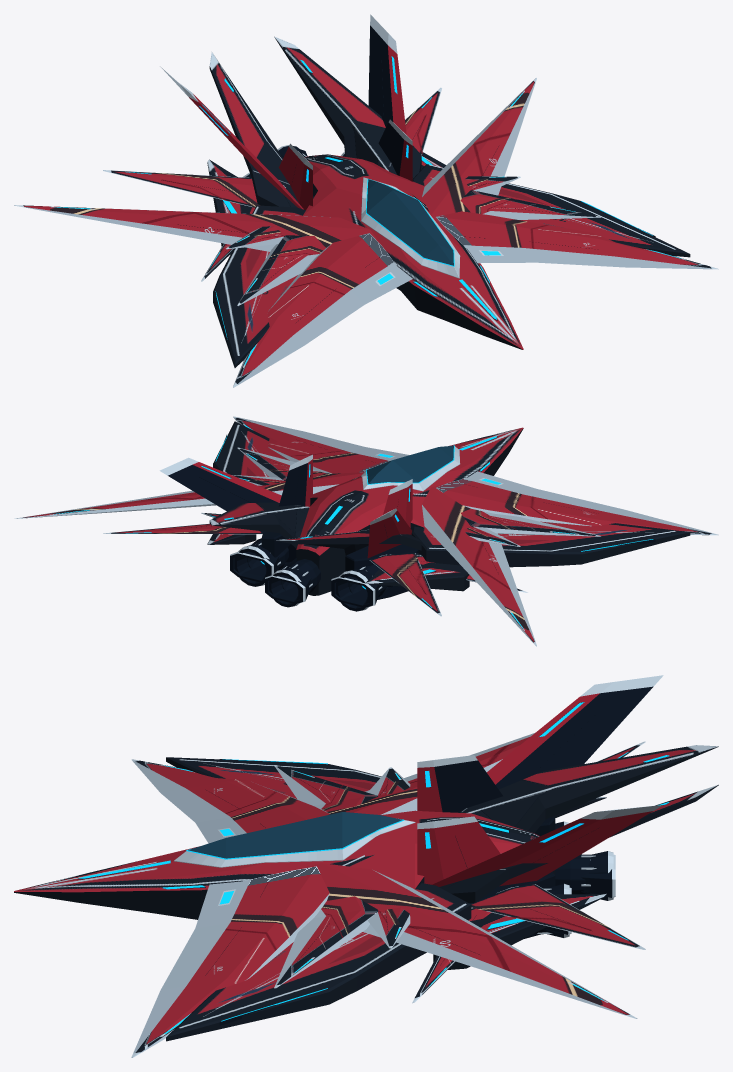
Rendered from R18_LIBRARY_CRIMSON.glb.
3 renders of one model, top to bottom at view 1: azimuth 30°, elevation 25°; view 2: azimuth 150°, elevation 25°; view 3: azimuth 270°, elevation 25°, orthographic. The views are drawn at different scales.
Parts seen in each view (by area): view 1: A01_Central_Faceted_Monocoque, W02A_Full_Wing_L, W02A_Full_Wing_R, W03_Full_Wing_L, W03_Full_Wing_R, B01_MainWing_L, C02_Swept_Dorsal_Keel_R, B01_MainWing_R, C02_Swept_Dorsal_Keel_L, D02_Canopy_Closed_Faceted_Glass, T02_Canted_Fin_R, W02B_Full_Wing_L (+10 smaller); view 2: A01_Central_Faceted_Monocoque, W02A_Full_Wing_L, B01_MainWing_L, W03_Full_Wing_L, W02A_Full_Wing_R, T02_Canted_Fin_R, W03_Full_Wing_R, C02_Swept_Dorsal_Keel_R, B01_MainWing_R, D02_Canopy_Closed_Faceted_Glass, W02B_Full_Wing_L, A02_Blade_L (+19 smaller); view 3: W02A_Full_Wing_R, A01_Central_Faceted_Monocoque, B01_MainWing_R, W03_Full_Wing_R, C02_Swept_Dorsal_Keel_L, W02A_Full_Wing_L, T02_Canted_Fin_L, T02_Canted_Fin_R, D02_Canopy_Closed_Faceted_Glass, T03_Canted_Fin_R, A02_Blade_R, W02B_Full_Wing_R (+12 smaller).
Part boxes in pixels (left/top/right/bottom): A01_Central_Faceted_Monocoque: left=303, top=154, right=523, bottom=349; W02A_Full_Wing_L: left=233, top=233, right=412, bottom=387; W02A_Full_Wing_R: left=436, top=211, right=718, bottom=269; W03_Full_Wing_L: left=14, top=205, right=380, bottom=251; W03_Full_Wing_R: left=422, top=78, right=536, bottom=227; B01_MainWing_L: left=213, top=205, right=305, bottom=367; C02_Swept_Dorsal_Keel_R: left=274, top=36, right=421, bottom=178; B01_MainWing_R: left=412, top=164, right=690, bottom=257; C02_Swept_Dorsal_Keel_L: left=209, top=52, right=313, bottom=207; D02_Canopy_Closed_Faceted_Glass: left=366, top=179, right=453, bottom=265; T02_Canted_Fin_R: left=368, top=14, right=406, bottom=134; W02B_Full_Wing_L: left=237, top=235, right=325, bottom=305; A01_Central_Faceted_Monocoque: left=296, top=427, right=523, bottom=595; W02A_Full_Wing_L: left=436, top=471, right=718, bottom=535; B01_MainWing_L: left=411, top=521, right=690, bottom=567; W03_Full_Wing_L: left=422, top=483, right=536, bottom=646; W02A_Full_Wing_R: left=233, top=416, right=409, bottom=473; T02_Canted_Fin_R: left=159, top=457, right=281, bottom=532; W03_Full_Wing_R: left=14, top=472, right=363, bottom=518; C02_Swept_Dorsal_Keel_R: left=209, top=502, right=309, bottom=548; B01_MainWing_R: left=213, top=421, right=289, bottom=476; D02_Canopy_Closed_Faceted_Glass: left=366, top=445, right=453, bottom=483; W02B_Full_Wing_L: left=461, top=508, right=600, bottom=536; A02_Blade_L: left=369, top=553, right=441, bottom=616; W02A_Full_Wing_R: left=131, top=866, right=329, bottom=1057; A01_Central_Faceted_Monocoque: left=14, top=810, right=555, bottom=919; B01_MainWing_R: left=166, top=883, right=471, bottom=1041; W03_Full_Wing_R: left=288, top=863, right=637, bottom=1018; C02_Swept_Dorsal_Keel_L: left=458, top=745, right=718, bottom=833; W02A_Full_Wing_L: left=131, top=759, right=329, bottom=843; T02_Canted_Fin_L: left=487, top=675, right=663, bottom=789; T02_Canted_Fin_R: left=432, top=805, right=662, bottom=886; D02_Canopy_Closed_Faceted_Glass: left=188, top=812, right=402, bottom=858; T03_Canted_Fin_R: left=417, top=816, right=500, bottom=884; A02_Blade_R: left=471, top=884, right=645, bottom=949; W02B_Full_Wing_R: left=274, top=896, right=378, bottom=988.
Size of the model in its own units: 10.84 by 2.66 by 10.06.
27 materials, 19 textured.
